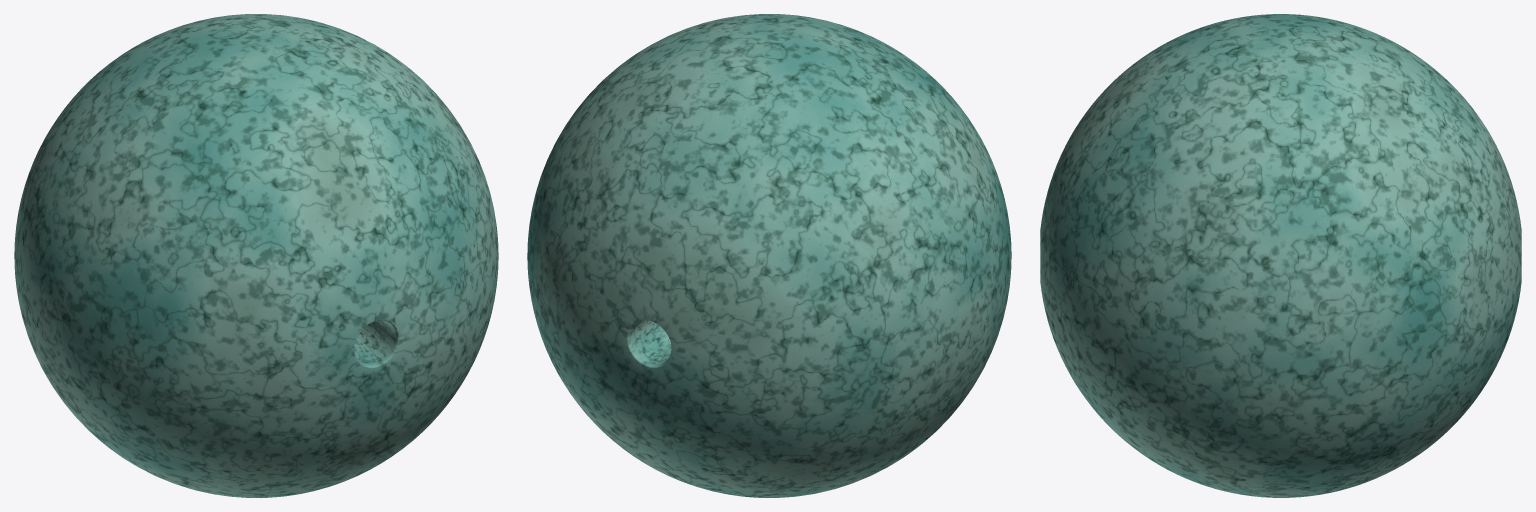
File: moss-agate-10mm.glb
3 renders of one model, left to right at view 1: azimuth 30°, elevation 25°; view 2: azimuth 150°, elevation 25°; view 3: azimuth 270°, elevation 25°, orthographic.
Parts seen in each view (by area): view 1: moss-agate.001; view 2: moss-agate.001; view 3: moss-agate.001.
Part boxes in pixels (x1,y1,x2,y2): moss-agate.001: [14, 14, 498, 497]; moss-agate.001: [527, 14, 1011, 497]; moss-agate.001: [1040, 14, 1521, 497].
Bounding box in the file's own units: 0.01 × 0.01 × 0.00994.
Materials: 2 (1 with a texture image).
